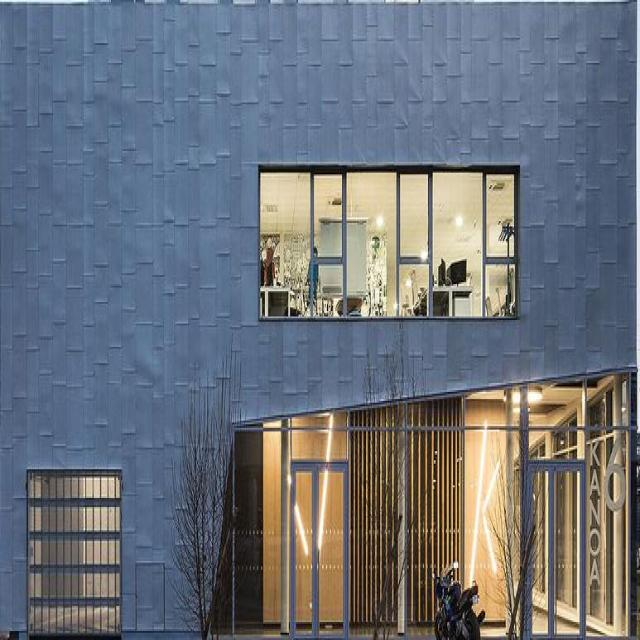door: (526, 460, 588, 638), (291, 460, 351, 638)
wall: (0, 0, 639, 636)
windows: (232, 372, 633, 638), (261, 163, 518, 317)
